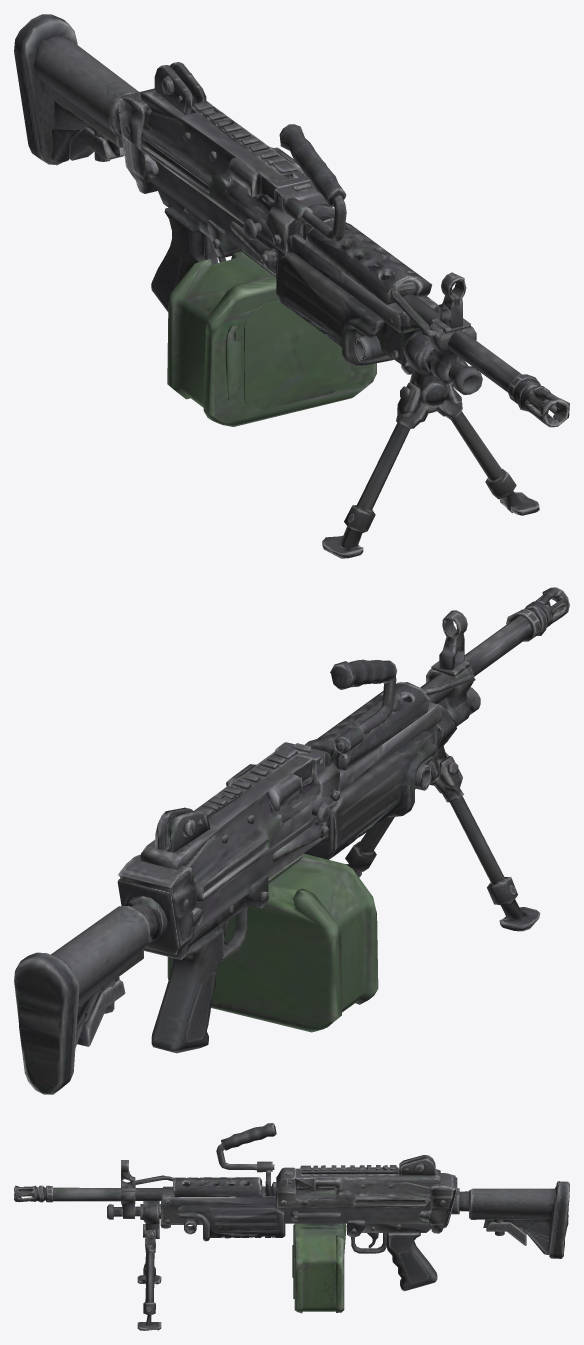
Rendered from lmg.glb.
3 renders of one model, top to bottom at view 1: azimuth 30°, elevation 25°; view 2: azimuth 150°, elevation 25°; view 3: azimuth 270°, elevation 25°, orthographic. The views are drawn at different scales.
Parts seen in each view (by area): view 1: w_lmg; view 2: w_lmg; view 3: w_lmg.
Part boxes in pixels (bbox=[...]): w_lmg: bbox=[14, 14, 569, 558]; w_lmg: bbox=[14, 587, 569, 1094]; w_lmg: bbox=[14, 1123, 569, 1330].
Bounding box in the file's own units: 0.2168 × 0.331 × 0.95.
Materials: 1 (1 with a texture image).
